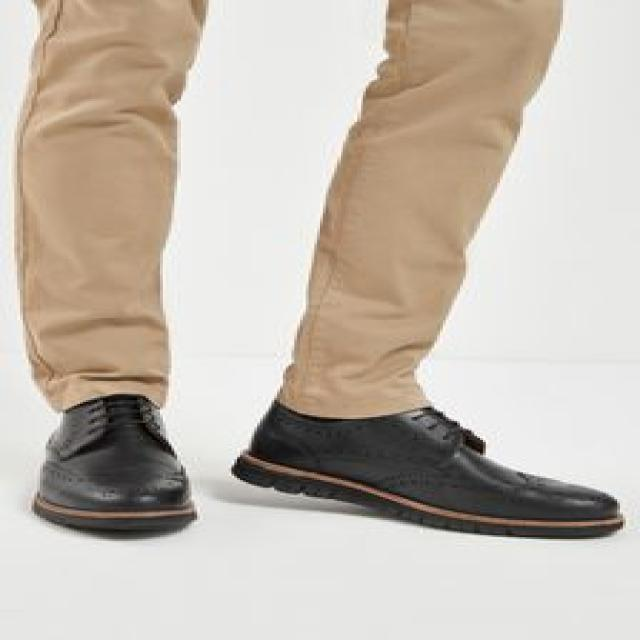shoe: (234, 396, 627, 545), (29, 390, 200, 534)
